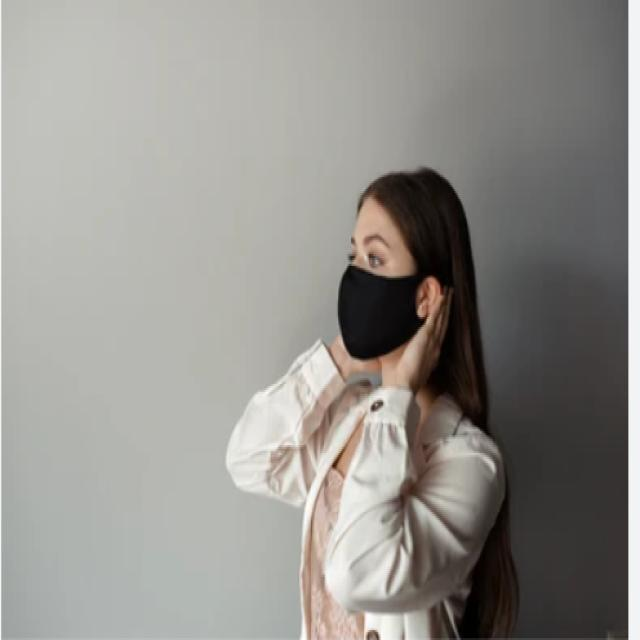face_mask: (338, 197, 440, 368)
